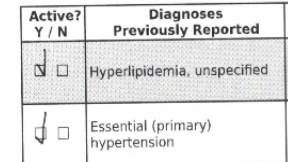checked: (28, 108, 54, 149), (26, 45, 53, 84)
